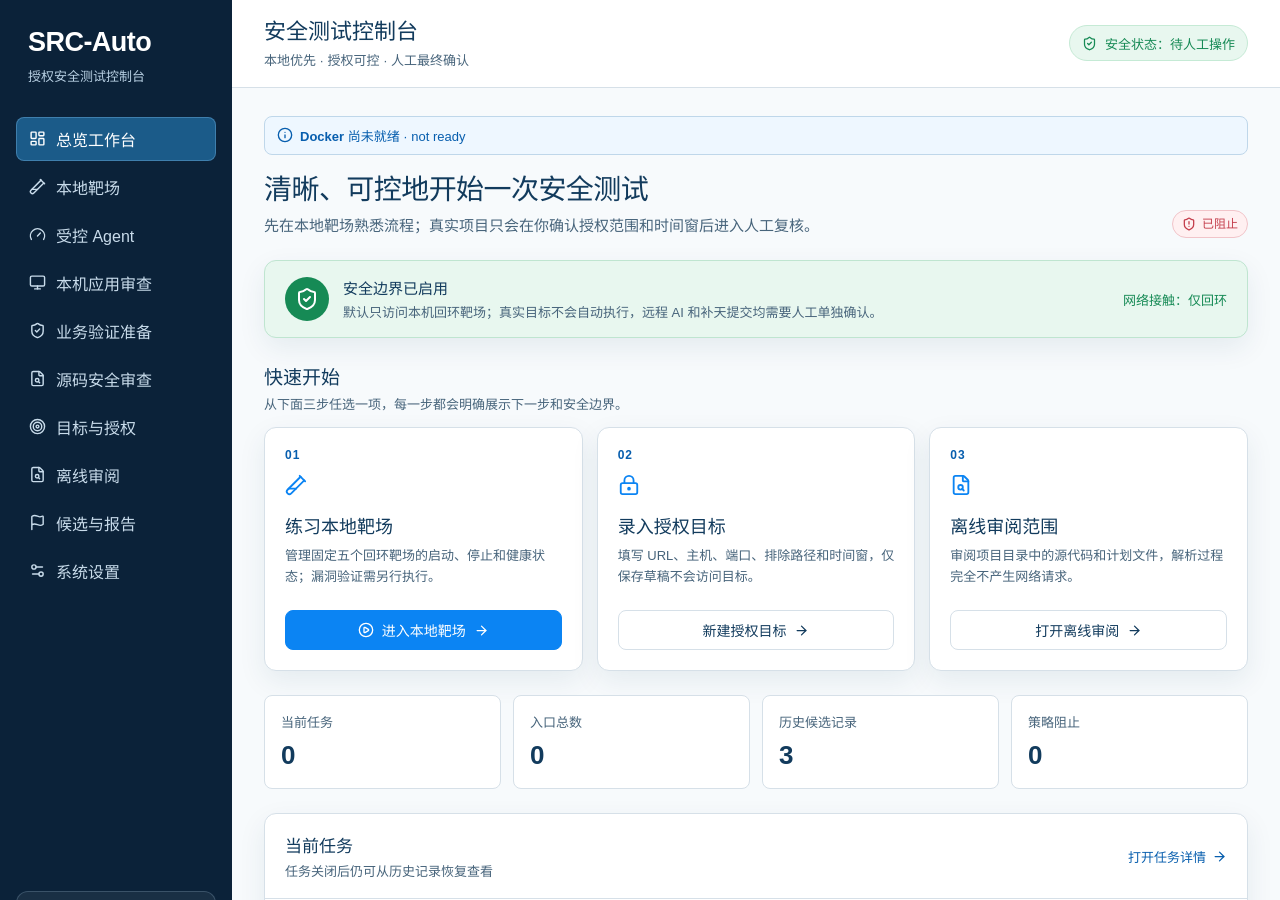
Scenario: does not present Docker as a prerequisite for the native local-app page
The image size is (1280, 900).
Expected: the text "Docker 尚未就绪" is shown, left=300, top=128, right=400, bottom=144
What coordinates should you click on to do the following:
click the button "本机应用审查"
I would click on:
 (116, 283)
Its box is left=16, top=261, right=216, bottom=305.
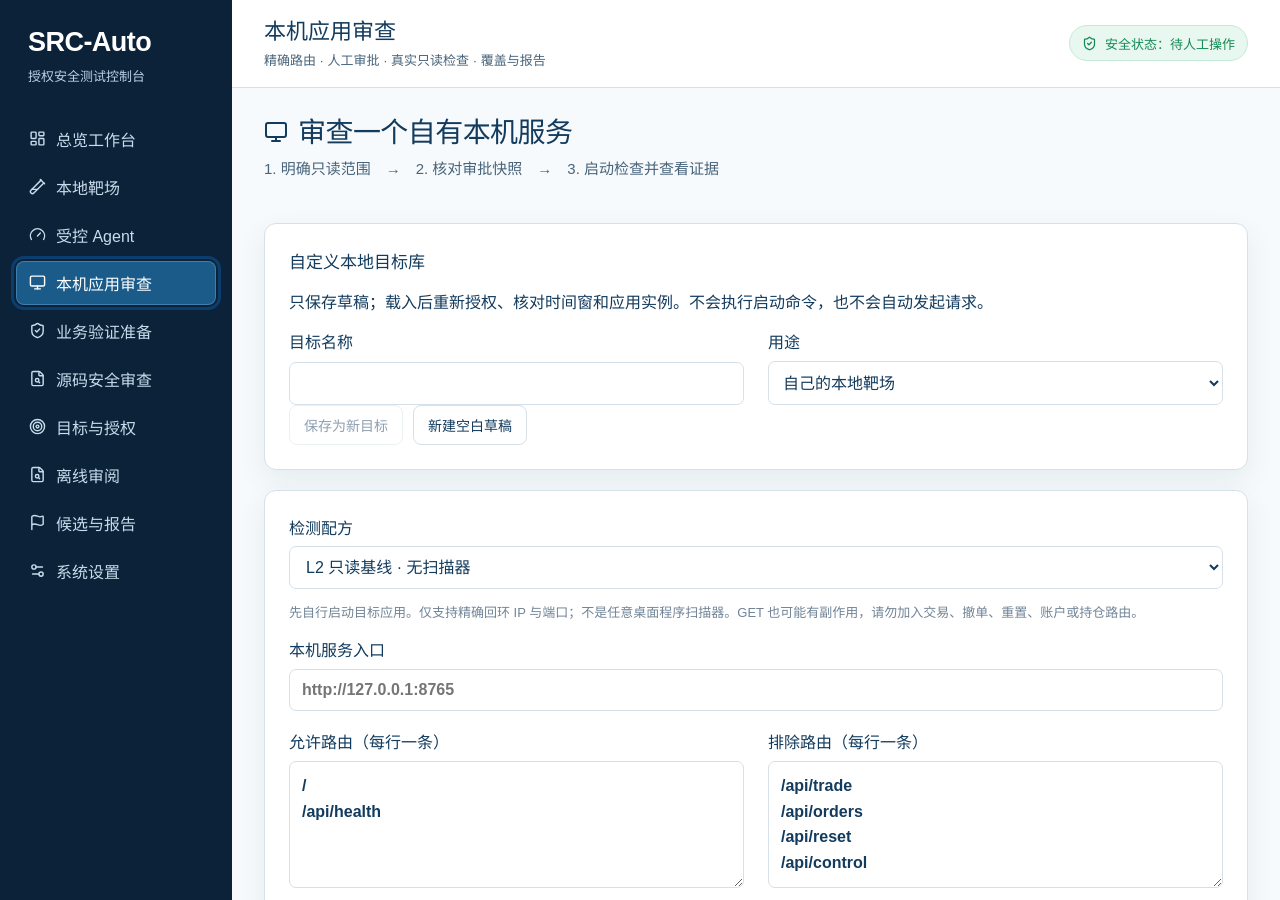
Expected: the heading "审查一个自有本机服务" is shown, left=264, top=116, right=572, bottom=148
Expected: the text "Docker 尚未就绪" is gone
